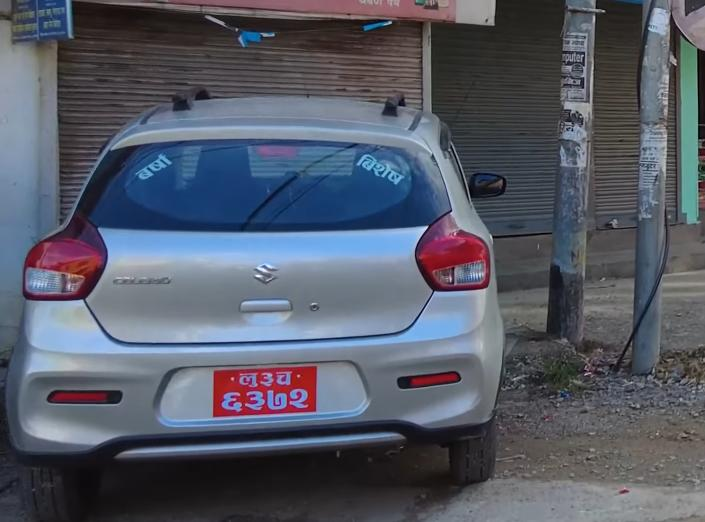car: (10, 80, 510, 517)
